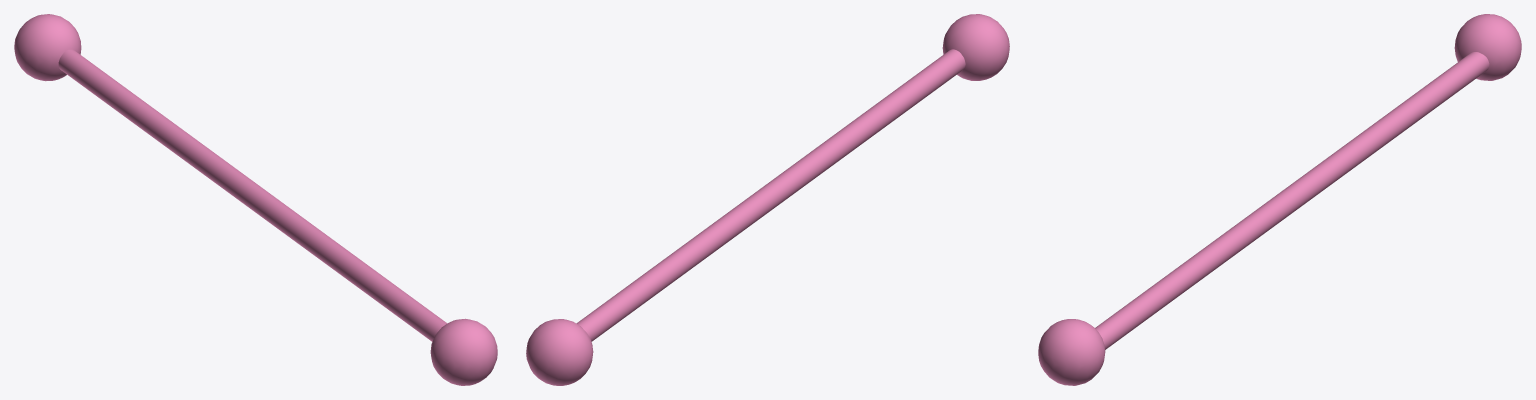
Rendered from line_pink.glb.
3 renders of one model, left to right at view 1: azimuth 30°, elevation 25°; view 2: azimuth 150°, elevation 25°; view 3: azimuth 330°, elevation 25°, orthographic.
Visible parts, largest first — view 1: NurbsPath.006, Sphere.013, Sphere.014; view 2: NurbsPath.006, Sphere.014, Sphere.013; view 3: NurbsPath.006, Sphere.013, Sphere.014.
Boxes of the visible parts, box(x1,y1,x2,y2) form: NurbsPath.006: box(58, 49, 446, 341); Sphere.013: box(430, 318, 497, 385); Sphere.014: box(14, 14, 81, 81); NurbsPath.006: box(576, 49, 965, 341); Sphere.014: box(526, 319, 593, 385); Sphere.013: box(942, 14, 1009, 80); NurbsPath.006: box(1095, 52, 1489, 349); Sphere.013: box(1038, 319, 1105, 385); Sphere.014: box(1454, 14, 1521, 80).
Size of the model in its own units: 0.1688 by 0.1688 by 2.26.
